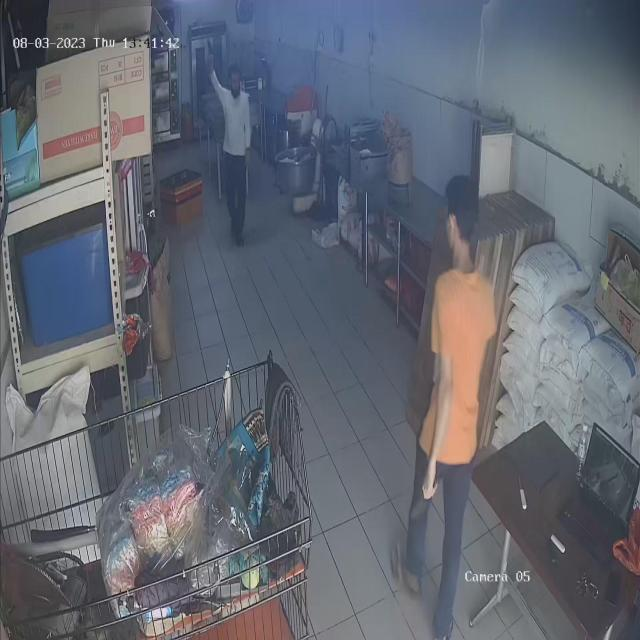Gun: (198, 29, 228, 67)
Knife: (395, 482, 444, 522)
